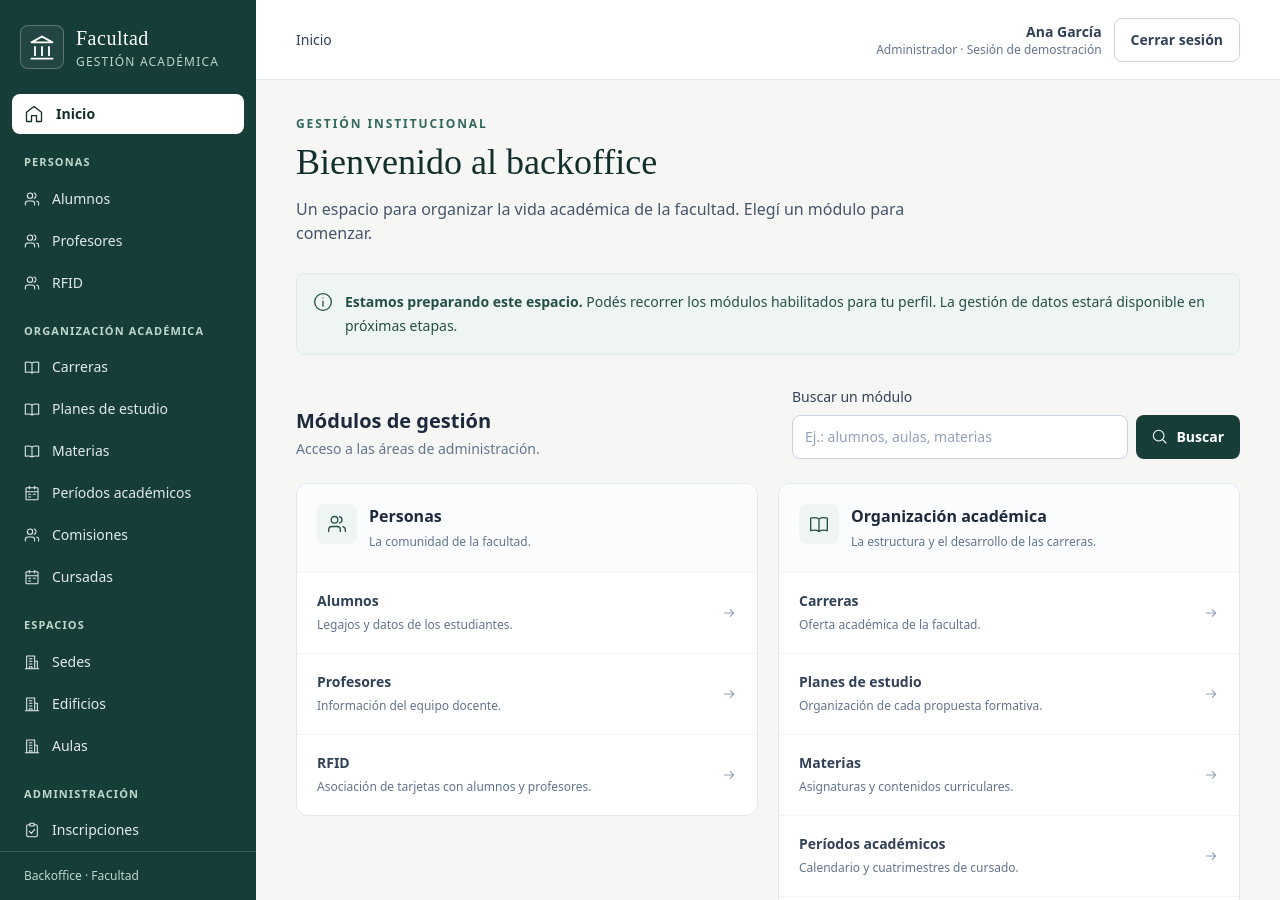
Búsqueda de módulos › encuentra nombres sin exigir tildes y permite abrir el resultado
Type "  PERIODOS  " into the search field. click: (960, 437)
box: x1=792 y1=415 x2=1128 y2=459
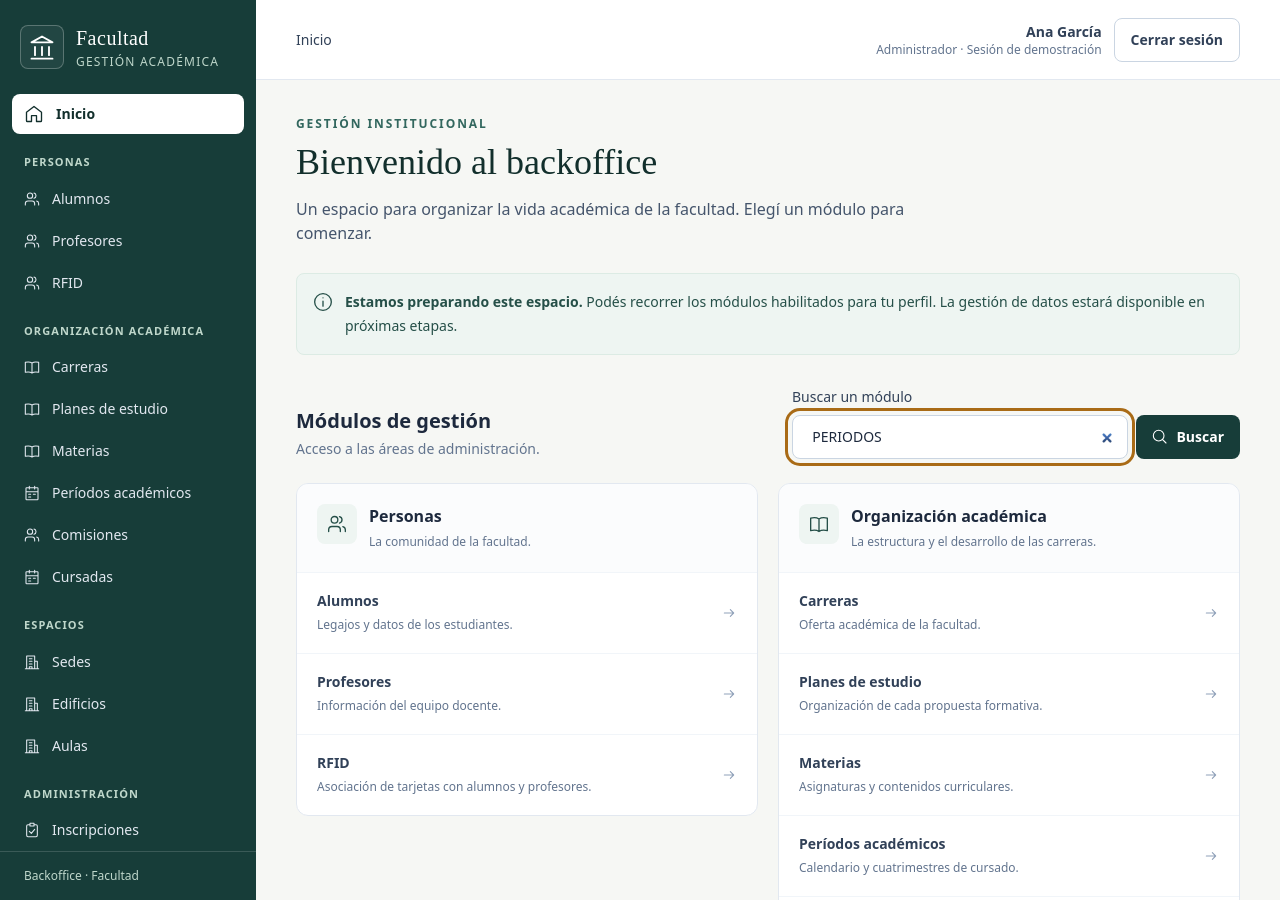
Click the button "Buscar". click: (1188, 437)
box: x1=1136 y1=415 x2=1240 y2=459
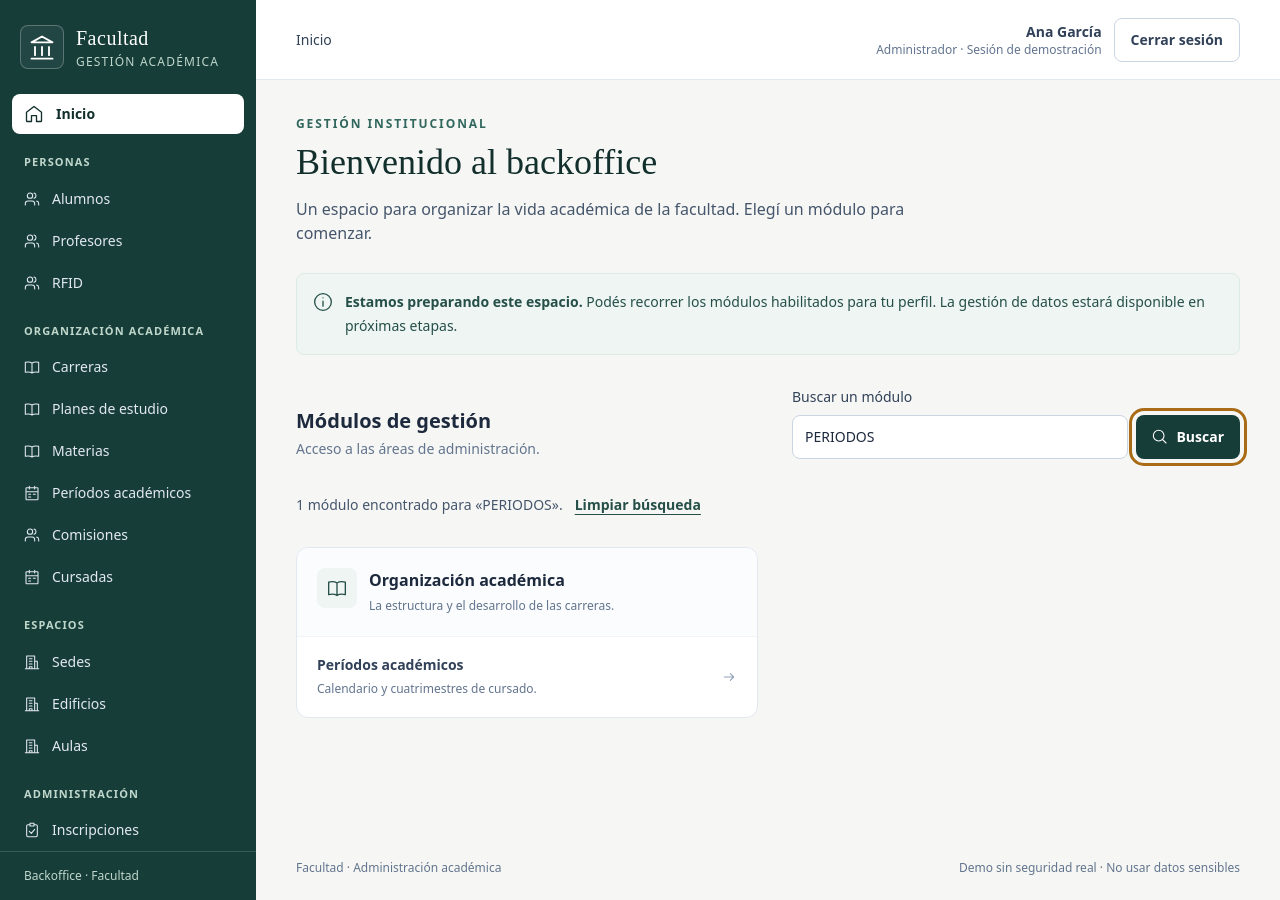
Result: the message shows "1 módulo encontrado" at x1=296 y1=495 x2=563 y2=515
Result: the link "Legajos" is gone
Click the link "Períodos académicos Calendario y cuatrimestres de cursado.". click: (390, 664)
box: x1=317 y1=655 x2=737 y2=697
(page scrolled)
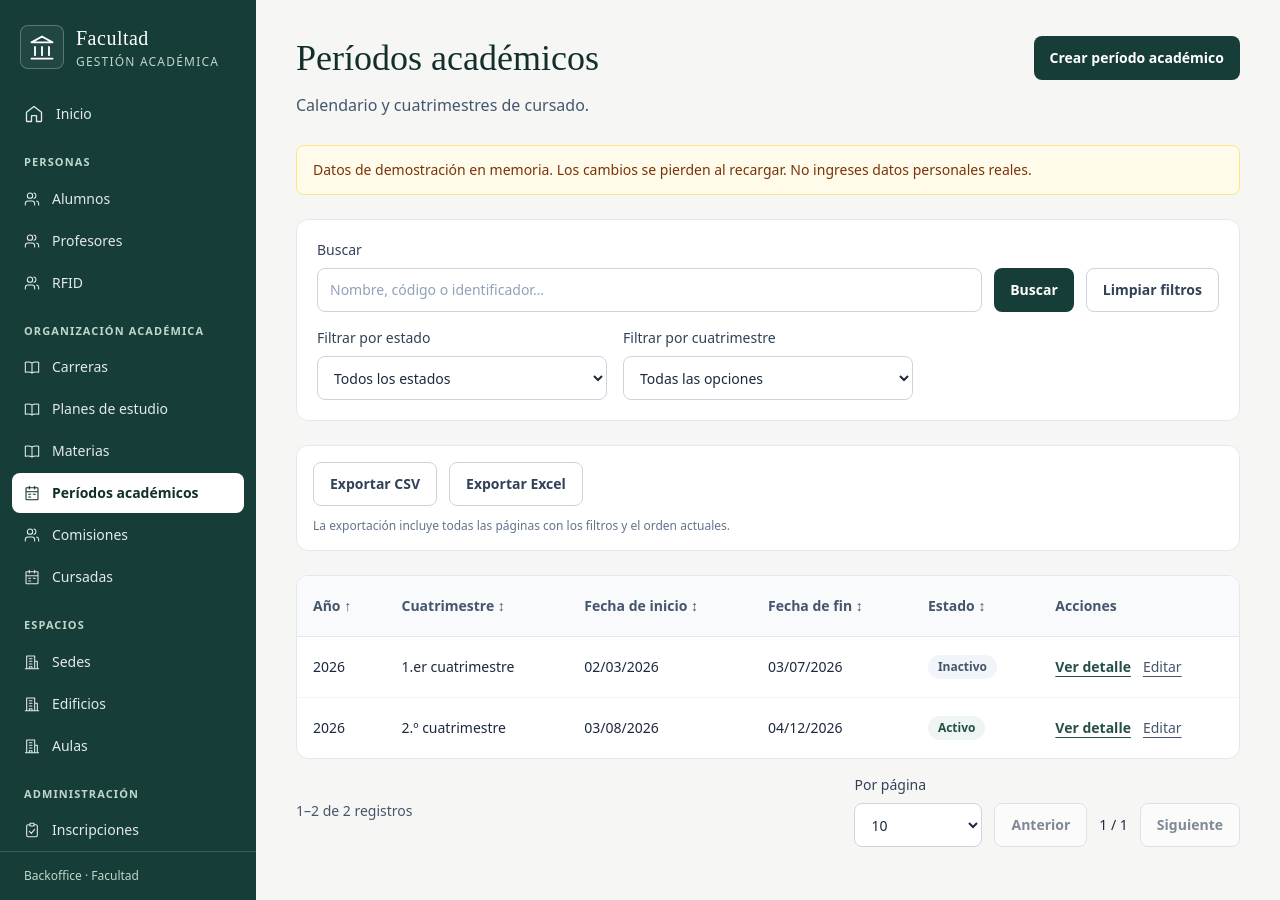
Result: the heading "Períodos académicos" is shown at x1=296 y1=36 x2=599 y2=81
